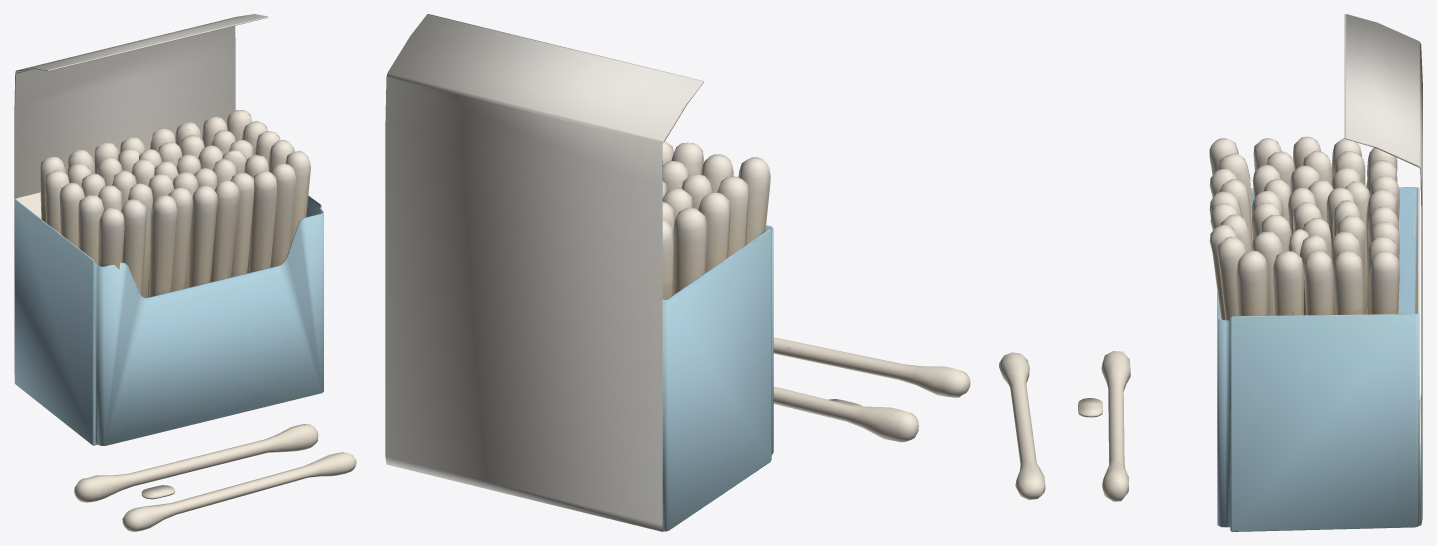
The model's file is selected.glb.
3 renders of one model, left to right at view 1: azimuth 30°, elevation 25°; view 2: azimuth 150°, elevation 25°; view 3: azimuth 270°, elevation 25°, orthographic. The views are drawn at different scales.
Parts seen in each view (by area): view 1: tripo_node_e9b5c1a6-dfb7-4a01-a6f1-d017247e4274; view 2: tripo_node_e9b5c1a6-dfb7-4a01-a6f1-d017247e4274; view 3: tripo_node_e9b5c1a6-dfb7-4a01-a6f1-d017247e4274.
Part boxes in pixels (x1,y1,x2,y2): tripo_node_e9b5c1a6-dfb7-4a01-a6f1-d017247e4274: (14,14,356,531); tripo_node_e9b5c1a6-dfb7-4a01-a6f1-d017247e4274: (385,14,970,531); tripo_node_e9b5c1a6-dfb7-4a01-a6f1-d017247e4274: (999,14,1422,531).
Size of the model in its own units: 0.9004 by 0.998 by 0.9629.
1 material, 1 textured.
